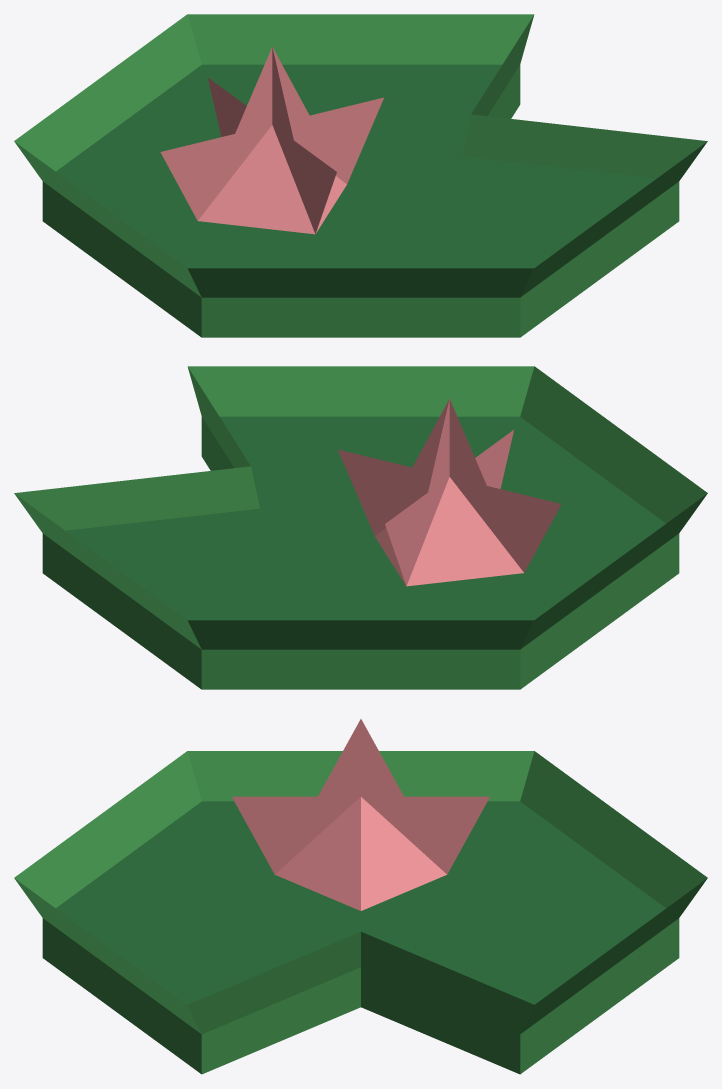
Rendered from lily.glb.
The picture shows the model from 3 angles, top to bottom: view 1: azimuth 30°, elevation 25°; view 2: azimuth 150°, elevation 25°; view 3: azimuth 270°, elevation 25°; orthographic projection.
Visible parts, largest first — view 1: lily; view 2: lily; view 3: lily.
Boxes of the visible parts, x1=… form: lily: x1=14, y1=14, x2=707, y2=337; lily: x1=14, y1=366, x2=707, y2=689; lily: x1=14, y1=719, x2=707, y2=1074.
Size of the model in its own units: 0.3329 by 0.12 by 0.3844.
